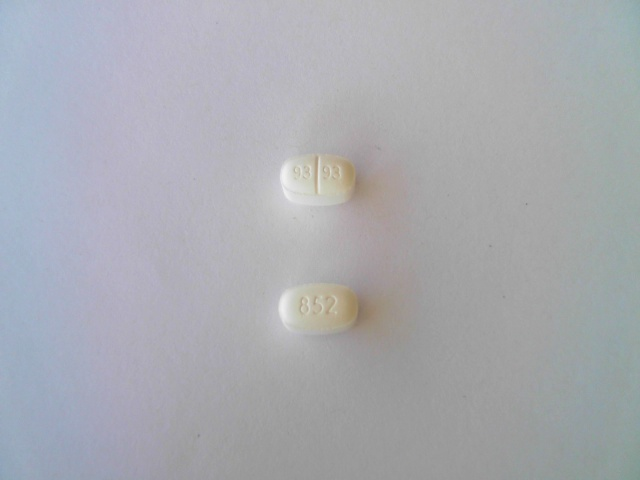2: (323, 294, 336, 319)
3: (331, 163, 343, 183), (301, 165, 312, 183)
5: (311, 294, 323, 318)
8: (297, 294, 311, 318)
9: (291, 165, 301, 184), (321, 163, 331, 182)
|: (314, 152, 321, 199)
